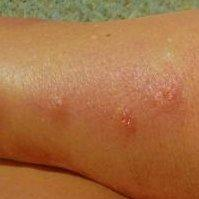Fleas: (147, 87, 179, 112), (105, 108, 136, 132), (47, 96, 70, 119)
